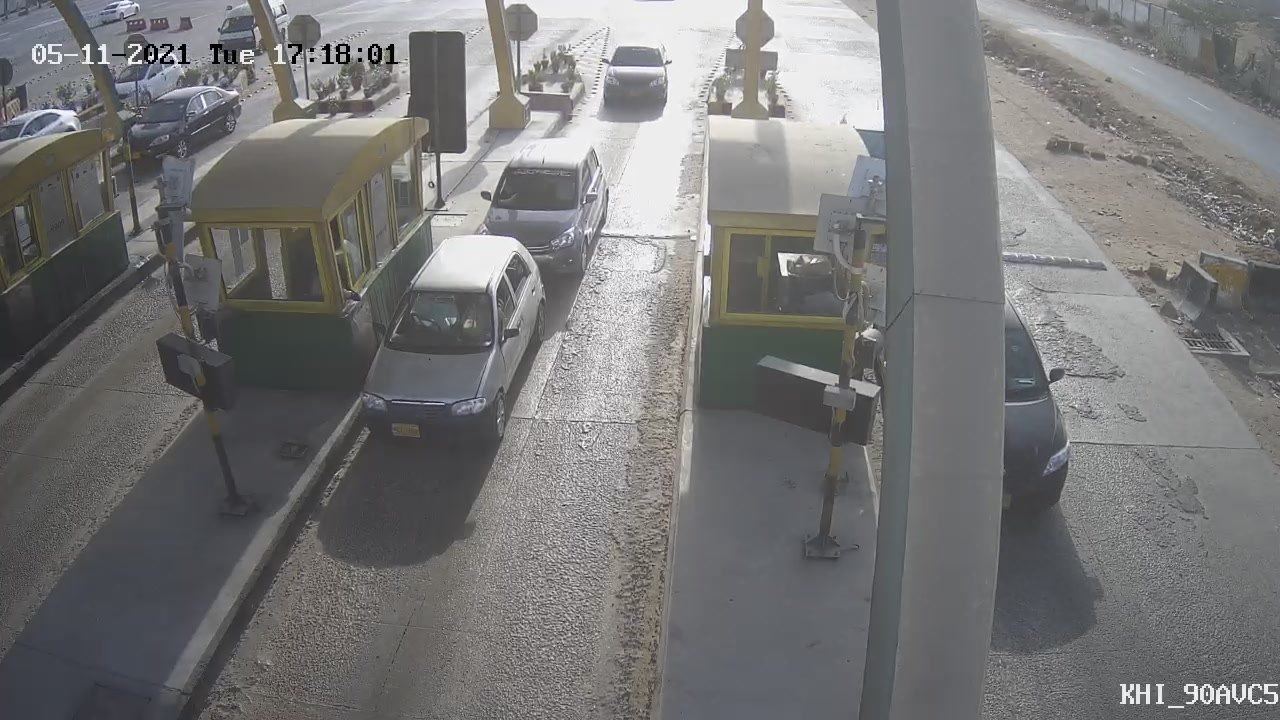F1: (333, 216, 573, 469), (460, 126, 626, 296)
